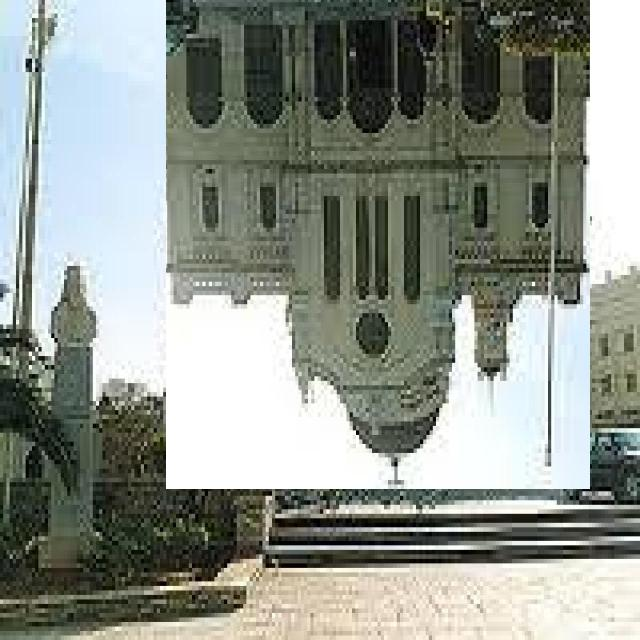Agios Minas: (167, 1, 591, 490)
